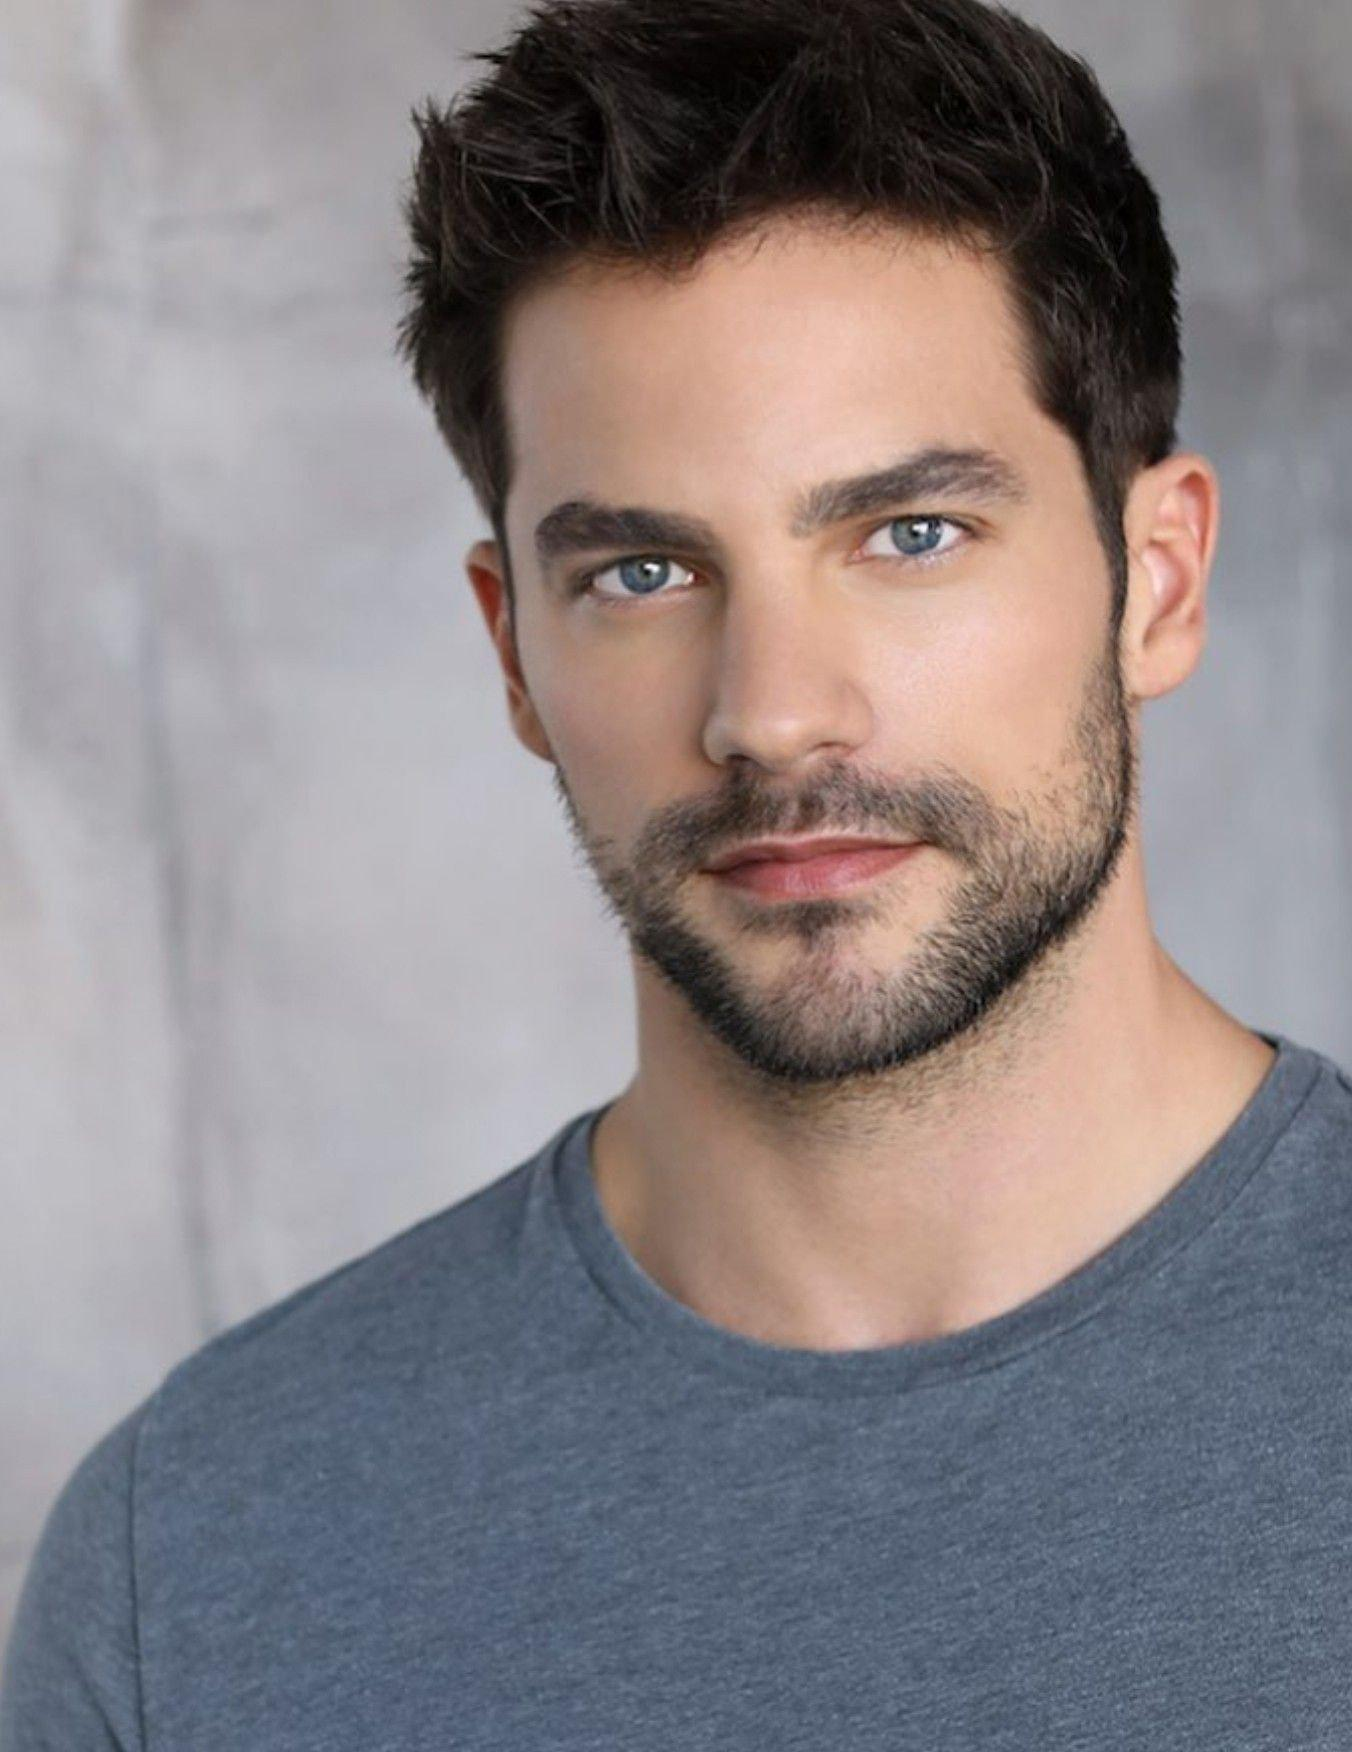Sober: (501, 274, 1094, 1009)
